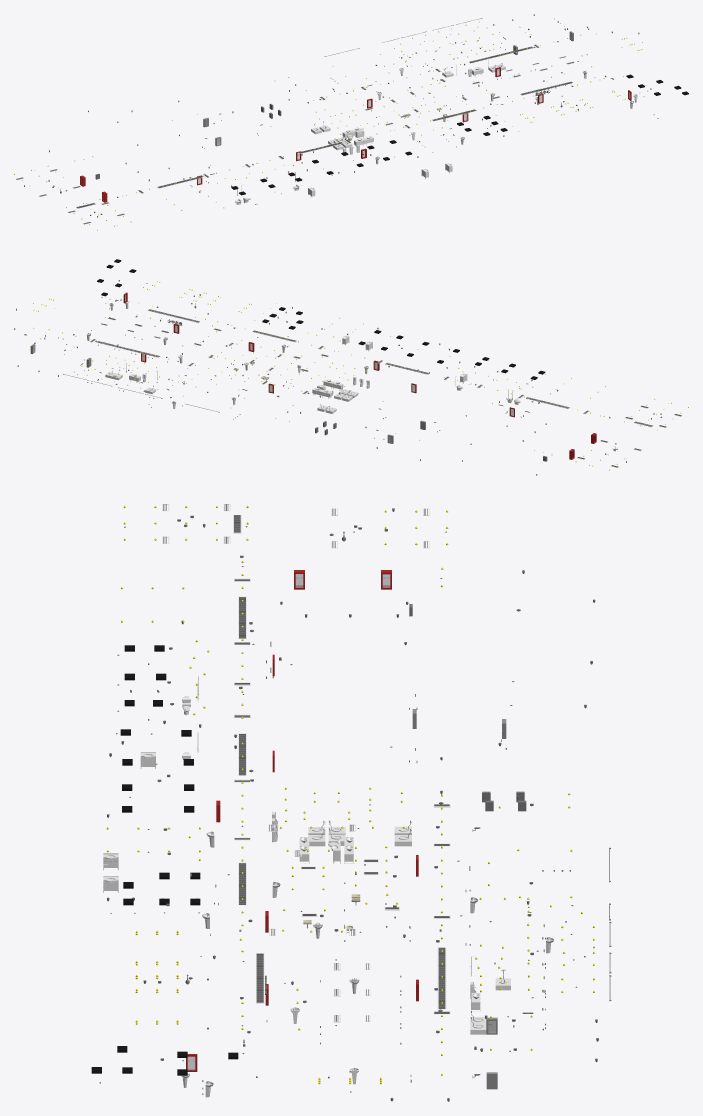
Rendered from F1_shebei.glb.
3 views of the same model, one above another, from view 1: azimuth 30°, elevation 25°; view 2: azimuth 150°, elevation 25°; view 3: azimuth 270°, elevation 25° (orthographic). The views are drawn at different scales.
Bounding box in the file's own units: 82.84 × 3.9 × 30.46.
